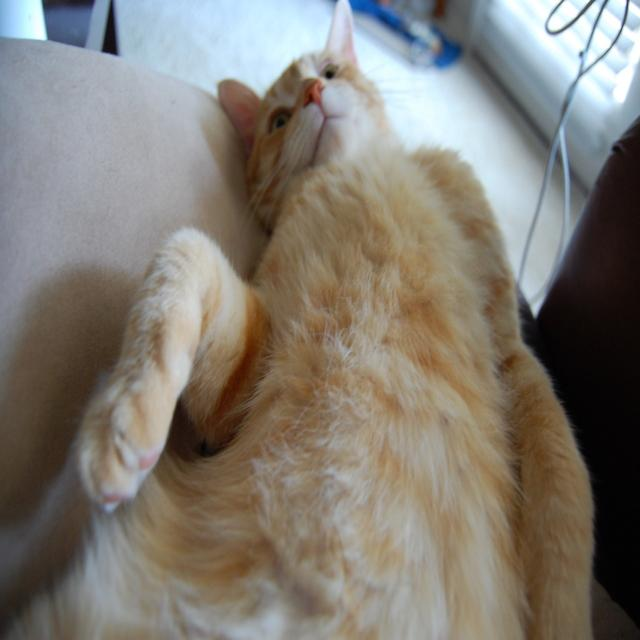cat: (71, 0, 597, 640)
